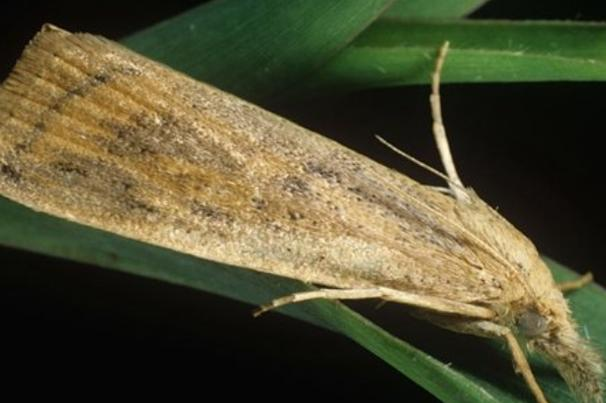Noctuidae: (2, 20, 601, 401)
